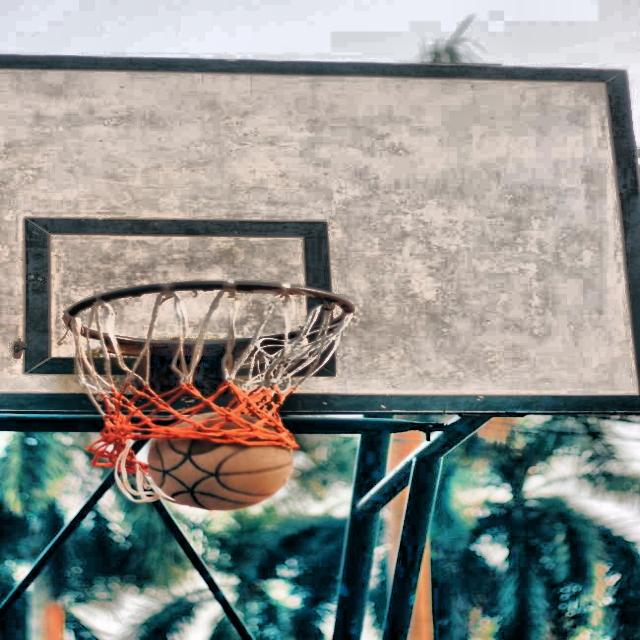board: (148, 413, 294, 512)
rim: (65, 278, 354, 441)
